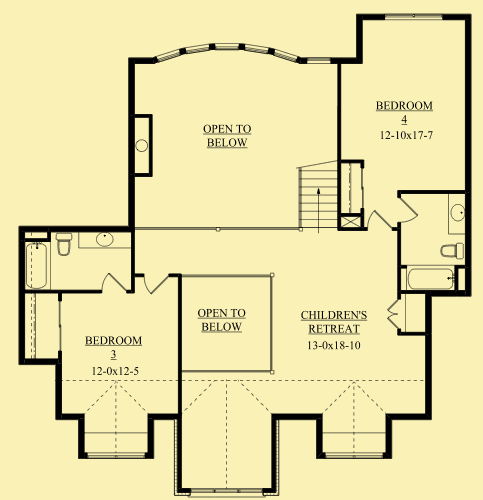door: (385, 300, 407, 330), (100, 271, 131, 292), (364, 209, 393, 231), (142, 272, 168, 296), (398, 196, 419, 224)
large_sink: (56, 232, 77, 259), (440, 240, 464, 260)
small_sink: (77, 231, 134, 250), (447, 193, 469, 235)
stairs: (299, 157, 338, 232)
tub: (23, 240, 52, 292), (407, 263, 457, 289)
window: (155, 39, 298, 65), (381, 9, 446, 22), (87, 449, 147, 459), (187, 489, 263, 496), (321, 452, 385, 459)
